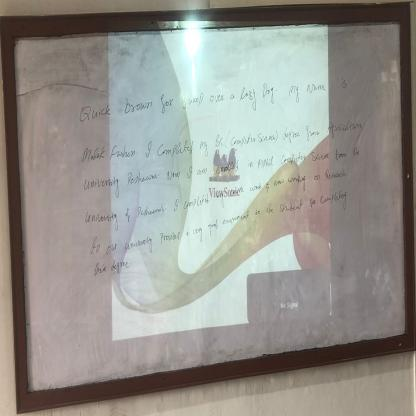Handwritten text: (84, 183, 359, 265), (80, 158, 354, 234), (73, 61, 356, 133), (76, 108, 368, 172), (80, 142, 368, 197)
Whiteboard: (11, 20, 409, 402)
